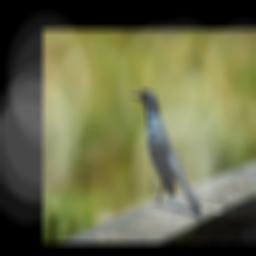Crow: (131, 89, 204, 219)
